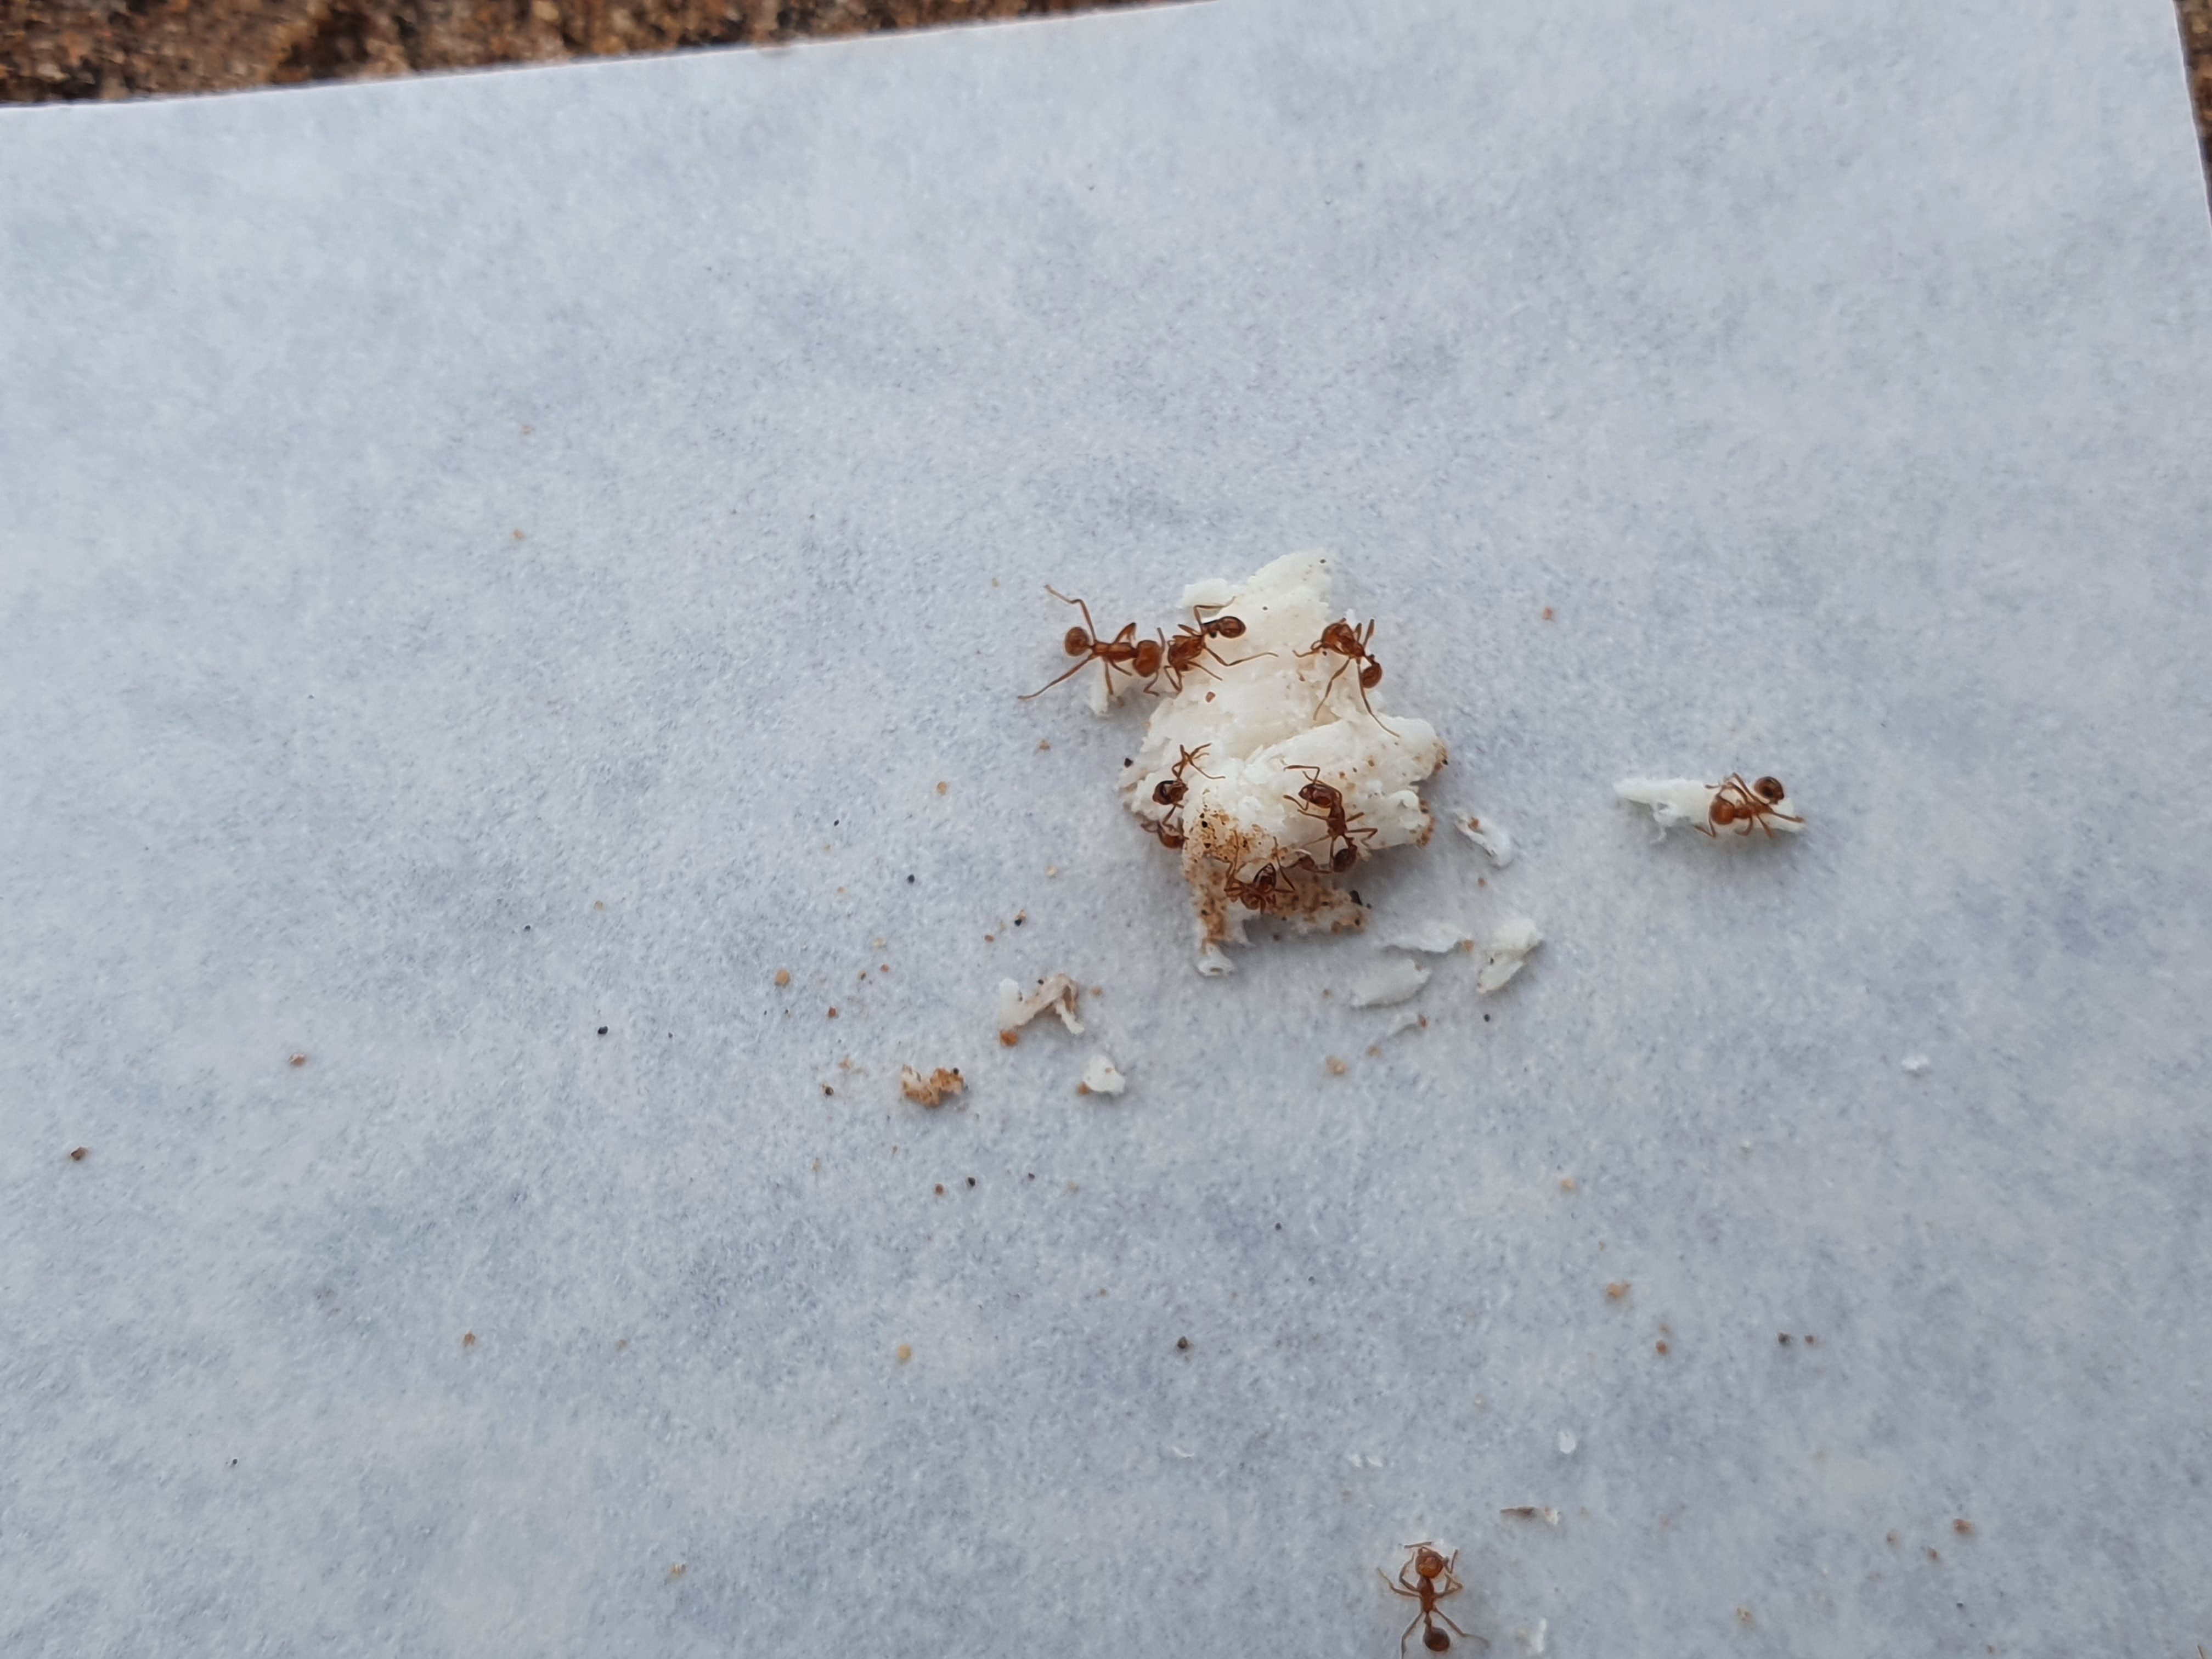Solenopsis_geminata: (996, 563, 1165, 734), (1667, 741, 1824, 904), (1350, 1514, 1507, 1659), (1280, 587, 1411, 755), (1270, 741, 1393, 896), (1162, 573, 1271, 720)
